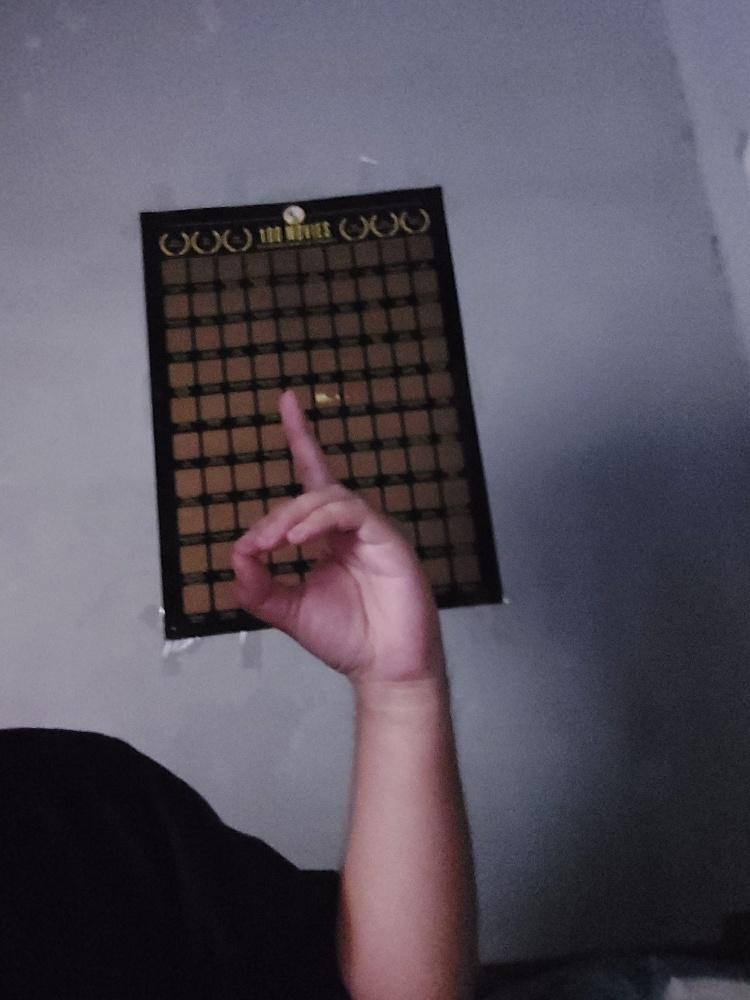d: (227, 383, 451, 676)
